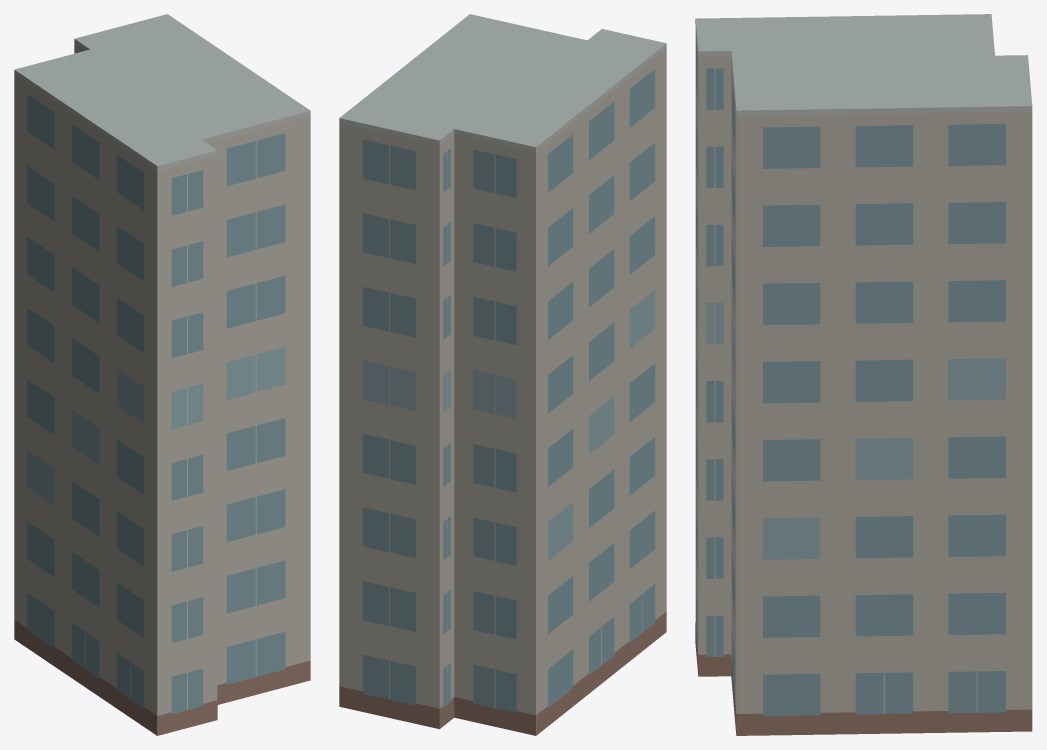
Rendered from survey-upis-32938693.glb.
The picture shows the model from 3 angles, left to right: view 1: azimuth 30°, elevation 25°; view 2: azimuth 150°, elevation 25°; view 3: azimuth 270°, elevation 25°; orthographic projection. The views are drawn at different scales.
Parts seen in each view (by area): view 1: survey-upis-32938693.tmp; view 2: survey-upis-32938693.tmp; view 3: survey-upis-32938693.tmp.
Part boxes in pixels (x1,y1,x2,y2): survey-upis-32938693.tmp: [14, 14, 310, 735]; survey-upis-32938693.tmp: [339, 14, 666, 735]; survey-upis-32938693.tmp: [695, 14, 1032, 735].
Bounding box in the file's own units: 9.05 × 27.3 × 13.33.
